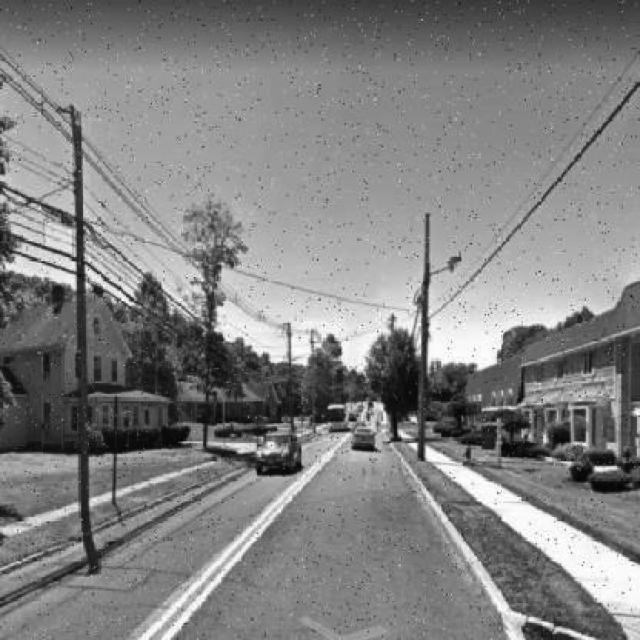pole: (72, 109, 98, 575), (417, 214, 432, 462)
wire: (438, 83, 640, 312), (0, 67, 185, 253), (0, 181, 207, 325), (107, 229, 414, 311), (0, 242, 160, 327), (0, 227, 152, 311)
